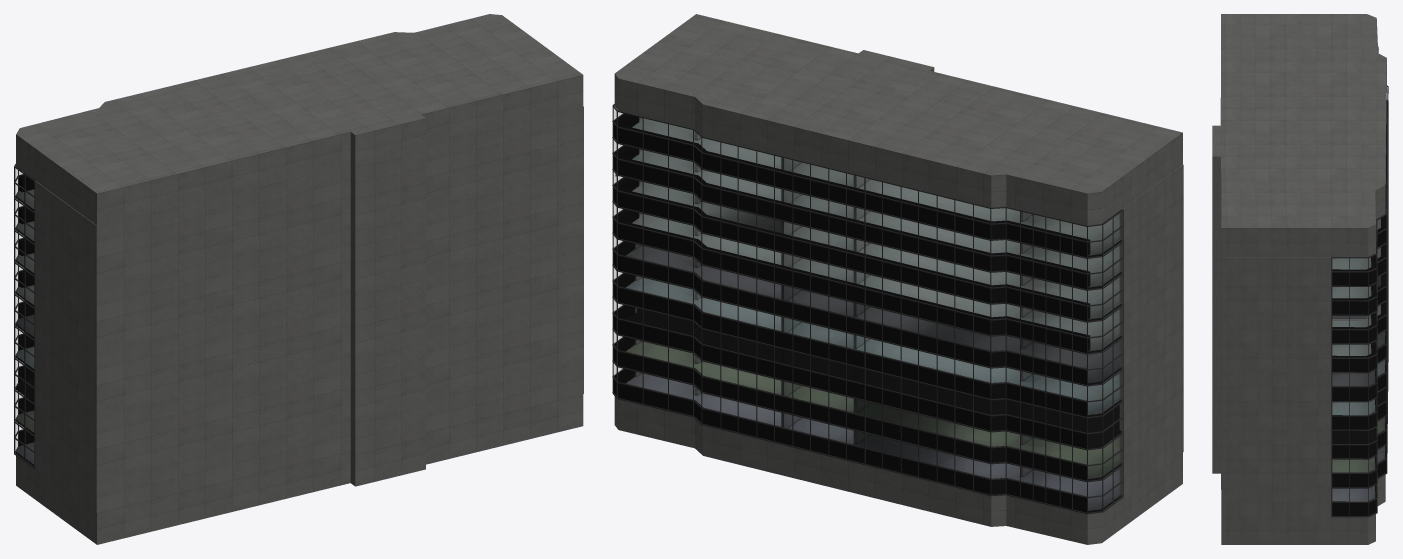
The model's file is office_building.glb.
3 views of the same model, side by side, from view 1: azimuth 30°, elevation 25°; view 2: azimuth 150°, elevation 25°; view 3: azimuth 270°, elevation 25° (orthographic). The views are drawn at different scales.
Visible parts, largest first — view 1: BLD_OFFICE_06_w2_0, BLD_OFFICE_00_walls_exterior_0, BLD_OFFICE_05_walls [BLD_OFFICE_05]_0, BLD_OFFICE_01_glass_0; view 2: BLD_OFFICE_06_w2_0, BLD_OFFICE_00_walls_exterior_0, BLD_OFFICE_05_walls [BLD_OFFICE_05]_0; view 3: BLD_OFFICE_06_w2_0, BLD_OFFICE_00_walls_exterior_0, BLD_OFFICE_05_walls [BLD_OFFICE_05]_0.
Boxes of the visible parts, box(x1,y1,x2,y2) form: BLD_OFFICE_06_w2_0: box(16, 14, 583, 544); BLD_OFFICE_00_walls_exterior_0: box(14, 163, 35, 468); BLD_OFFICE_05_walls [BLD_OFFICE_05]_0: box(16, 166, 35, 466); BLD_OFFICE_01_glass_0: box(15, 169, 23, 451); BLD_OFFICE_06_w2_0: box(614, 14, 1183, 544); BLD_OFFICE_00_walls_exterior_0: box(612, 104, 1123, 514); BLD_OFFICE_05_walls [BLD_OFFICE_05]_0: box(615, 106, 1121, 512); BLD_OFFICE_06_w2_0: box(1212, 14, 1386, 544); BLD_OFFICE_00_walls_exterior_0: box(1331, 46, 1388, 517); BLD_OFFICE_05_walls [BLD_OFFICE_05]_0: box(1332, 217, 1385, 501).
Bounding box in the file's own units: 285 × 195 × 98.45.
Materials: 7 (7 with a texture image).
